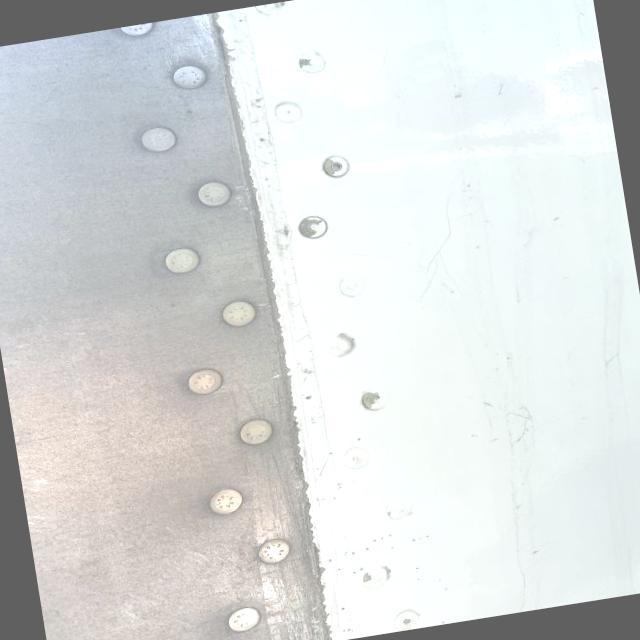crack: (394, 202, 477, 312), (484, 406, 546, 448)
